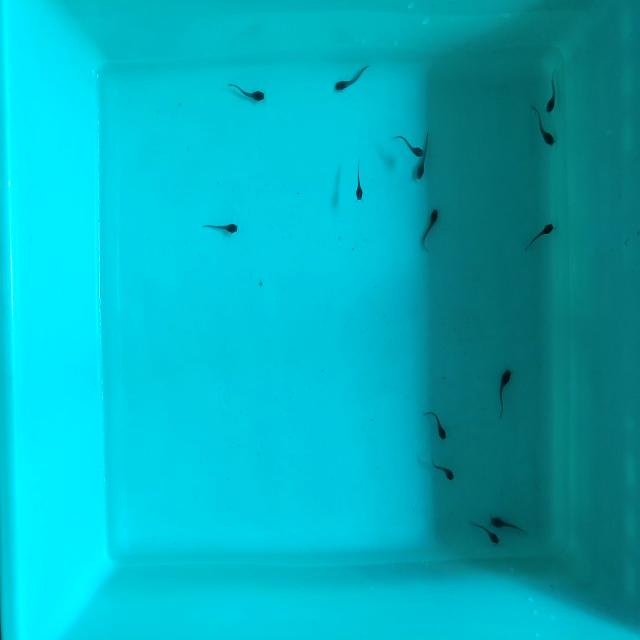lele: (528, 99, 560, 150), (331, 59, 374, 94), (416, 204, 441, 254), (522, 219, 556, 254), (388, 128, 425, 160), (226, 78, 268, 106), (467, 517, 503, 547), (412, 131, 432, 184), (492, 366, 513, 414), (487, 513, 529, 536), (422, 407, 449, 442), (544, 67, 561, 117), (428, 455, 457, 483), (202, 222, 240, 236), (353, 162, 365, 205)
